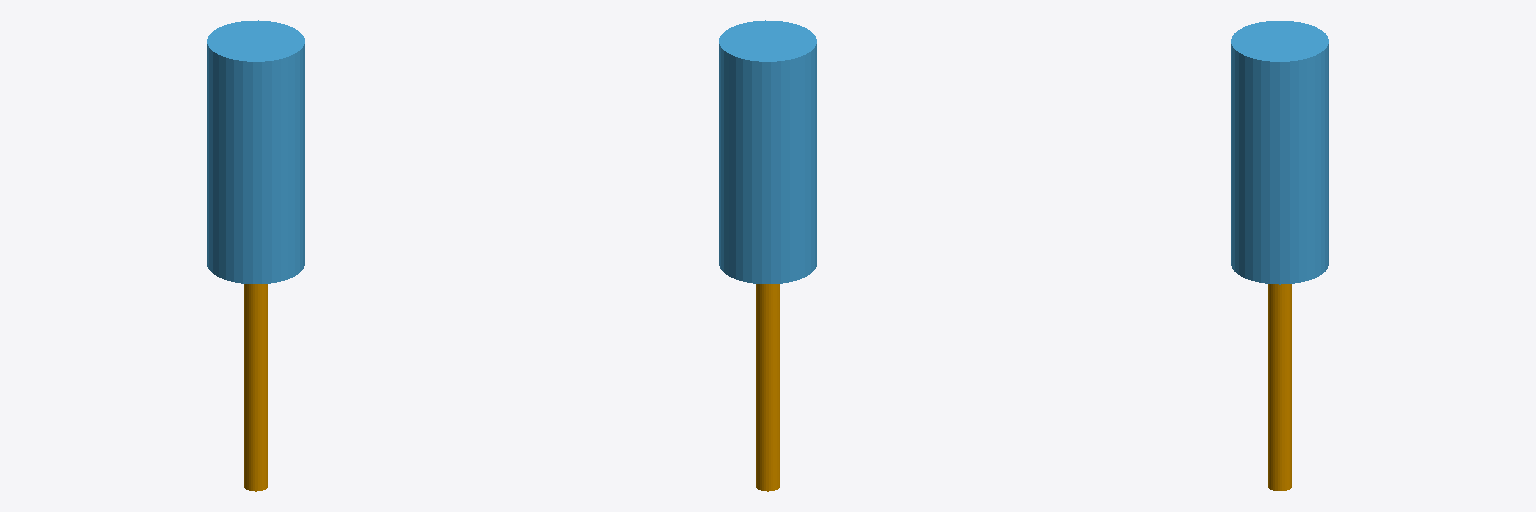
URDF robot description (screwdriver_on_the_table):
<?xml version="1.0" ?>
<!-- this is the one without any virtual joints and links -->
<robot name="screwdriver_on_the_table">
<link name="screwdriver_stick">
    <inertial>
      <mass value="0.05"/>
      <!-- <friction value="1.0"/> -->
      <inertia ixx="0.000041979" ixy="0.0" ixz="0.0" iyy="0.000041979" iyz="0.0" izz="0.000000625"/>
    </inertial>
    <visual>
        <origin rpy="0 0 0" xyz="0 0 0.05"/>
        <geometry>
            <cylinder radius="0.005" length="0.1"/>
        </geometry>
        <!-- <material name="White">
	 	    <color rgba="0.9 0.9 0.9 0.5"/>
        </material> -->
    </visual>
    <collision>
        <origin rpy="0 0 0" xyz="0 0 0.05"/>
        <geometry>
            <cylinder radius="0.005" length="0.1"/>
        </geometry>
    </collision>
</link>

<joint name="screwdriver_stick_body_joint" type="fixed">
    <parent link="screwdriver_stick"/>
    <child link="screwdriver_body"/>
    <origin rpy="0 0 0" xyz="0 0 0.1"/> 
    <axis xyz="0 0 1"/>
</joint>

<link name="screwdriver_body">
    <inertial>
      <mass value="0.1"/>
      <inertia ixx="0.00009667" ixy="0.0" ixz="0.0" iyy="0.00009667" iyz="0.0" izz="0.000006"/>
    </inertial>
    <visual>
        <origin rpy="0 0 0" xyz="0 0 0.05"/>
        <geometry>
            <cylinder radius="0.02" length="0.1"/>
        </geometry>
        <!-- <material name="Red1">
	 	    <color rgba="0.9 0. 0. 0.5"/>
        </material> -->
    </visual>
    <collision>
        <origin rpy="0 0 0" xyz="0 0 0.05"/>
        <geometry>
            <cylinder radius="0.02" length="0.1"/>
        </geometry>
    </collision>
</link>

<!-- <joint name="screwdriver_body_cap_joint" type="revolute">
    <parent link="screwdriver_body"/>
    <child link="screwdriver_cap"/>
    <origin rpy="0 0 0" xyz="0 0 0.1"/> 
    <axis xyz="0 0 1"/>
</joint>

<link name="screwdriver_cap">
    <inertial>
      <mass value="0.005"/>
      <inertia ixx="0.00001" ixy="0.0" ixz="0.0" iyy="0.000005" iyz="0.0" izz="0.000005"/>
    </inertial>
    <visual>
        <origin rpy="0 0 0" xyz="0 0 0.0006"/>
        <geometry>
            <cylinder radius="0.02" length="0.001"/>
        </geometry>
        <material name="Yellow">
	 	    <color rgba="0.9 0.9 0. 1.0"/>
        </material>
    </visual>
    <collision>
        <origin rpy="0 0 0" xyz="0 0 0.0005"/>
        <geometry>
            <cylinder radius="0.02" length="0.001"/>
        </geometry>
    </collision>
</link> -->

</robot>

--- Facts derived from the render (not from the file) ---
The picture shows the robot from 3 angles, left to right: view 1: azimuth 30°, elevation 25°; view 2: azimuth 150°, elevation 25°; view 3: azimuth 270°, elevation 25°; orthographic projection.
Model screwdriver_on_the_table with 2 links and 1 joints (1 fixed), rooted at screwdriver_stick, posed all joints at 0.
Links seen in each view (by area): view 1: screwdriver_body, screwdriver_stick; view 2: screwdriver_body, screwdriver_stick; view 3: screwdriver_body, screwdriver_stick.
Boxes of the visible links, x1,y1,x2,y2 form: screwdriver_body: [207, 20, 304, 283]; screwdriver_stick: [244, 284, 267, 491]; screwdriver_body: [719, 20, 816, 283]; screwdriver_stick: [756, 284, 779, 491]; screwdriver_body: [1231, 21, 1328, 284]; screwdriver_stick: [1268, 284, 1291, 490].
Bounding box of the posed robot: 0.04 × 0.04 × 0.2 m (x, y, z).
Geometry: primitives only (box / cylinder / sphere), no mesh files.
